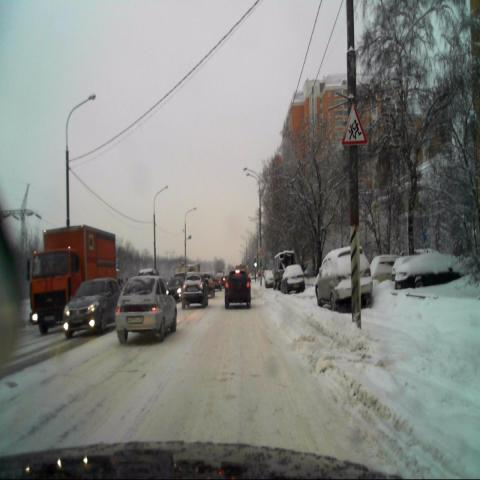1_23: (339, 102, 369, 146)
